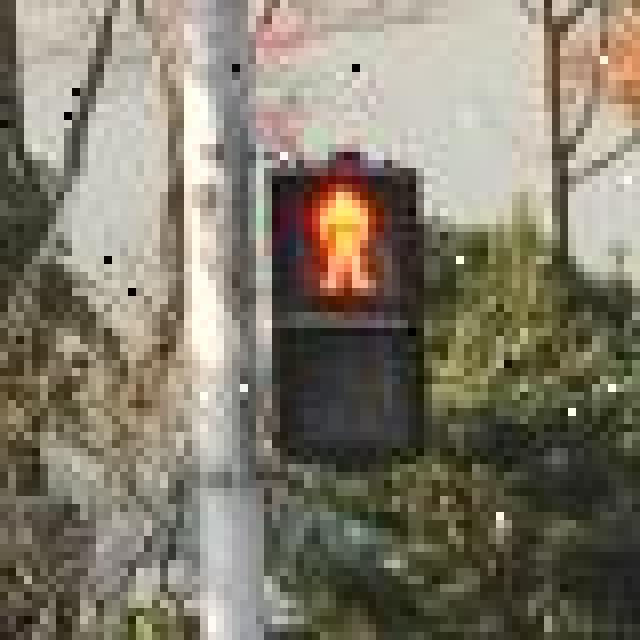redlight: (256, 160, 424, 448)
